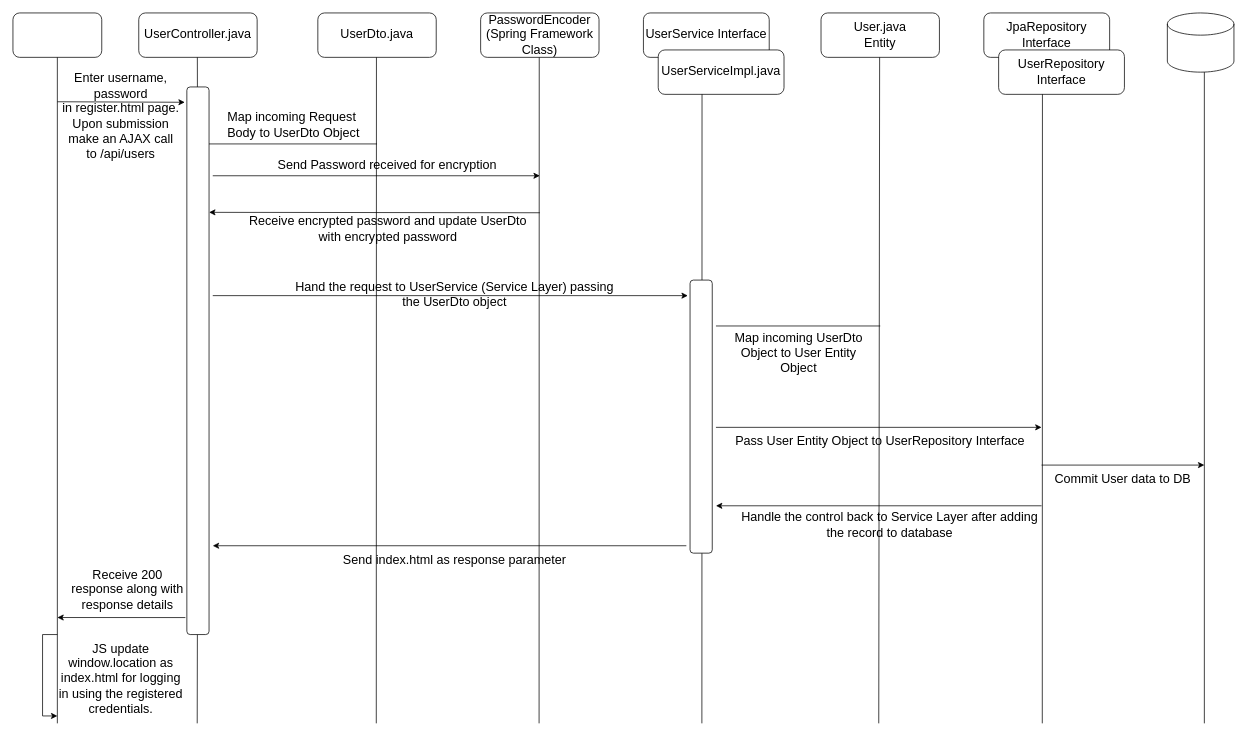
This 1247x737 diagram has some shape labels left out. Each missing label, with the centre of its shape:
"Browser" belongs at (x=57, y=34).
"Database" belongs at (x=1200, y=42).
